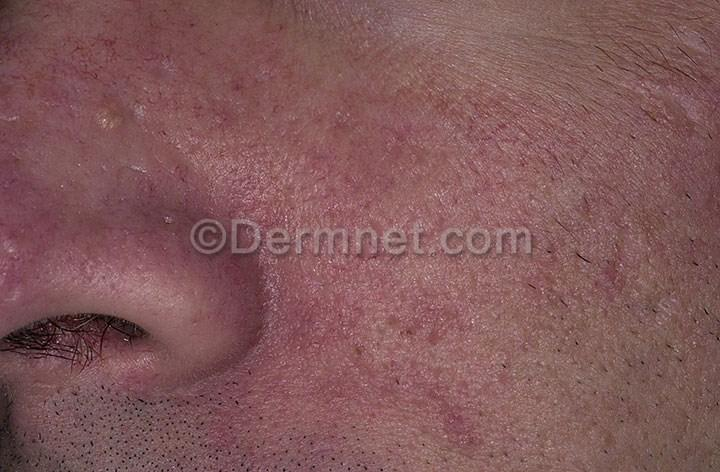Acne: (0, 212, 52, 287), (92, 99, 139, 167), (142, 50, 179, 108)
